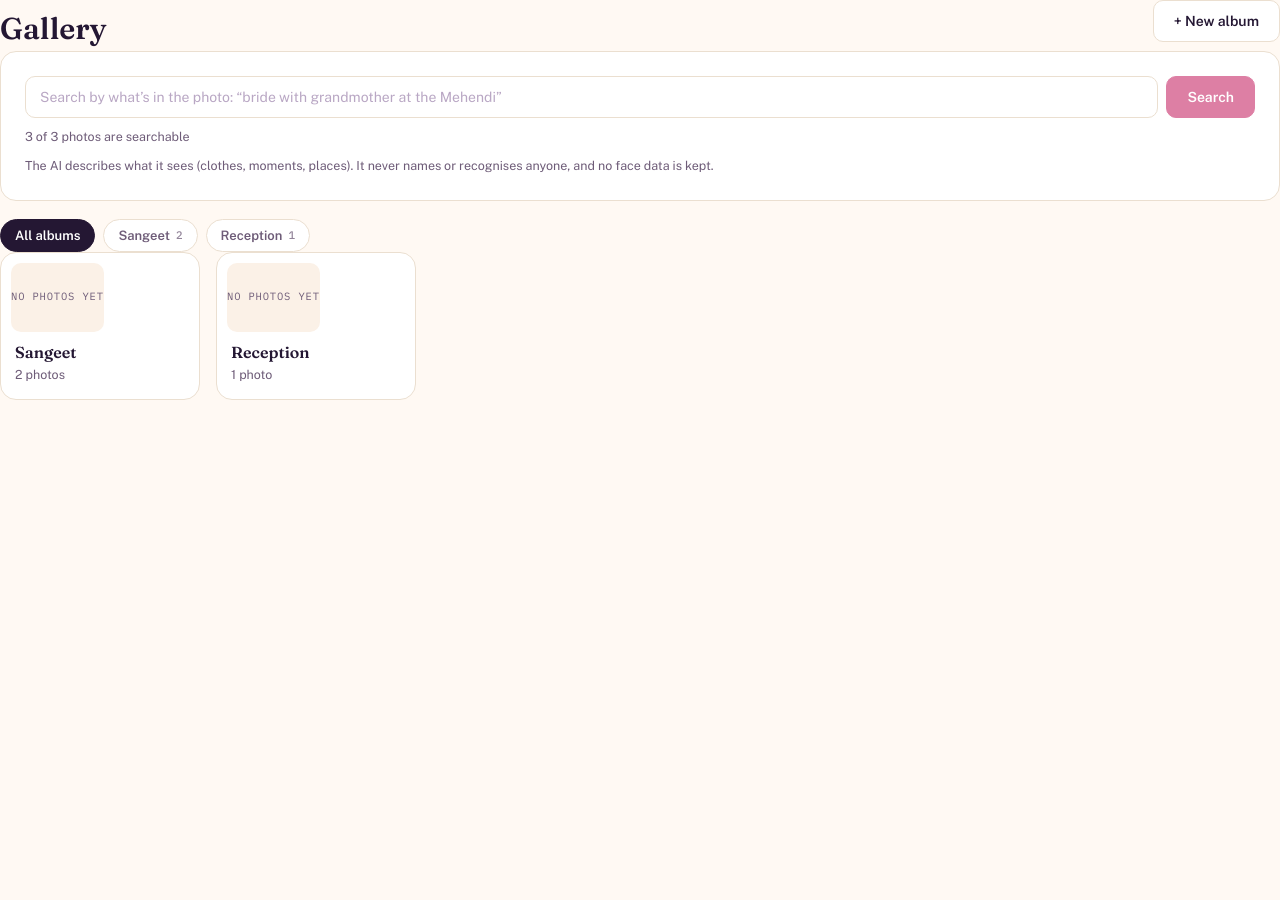
Test: Photo search › finds photos by what is in them and shows what the AI saw
Expected: the element named "Search photos" shows "3 of 3 photos are searchable", 0,51 -> 1279,200
Type "bride with grandmother at the sangeet" into the search field. click: (592, 97)
box: 25,76 -> 1158,118
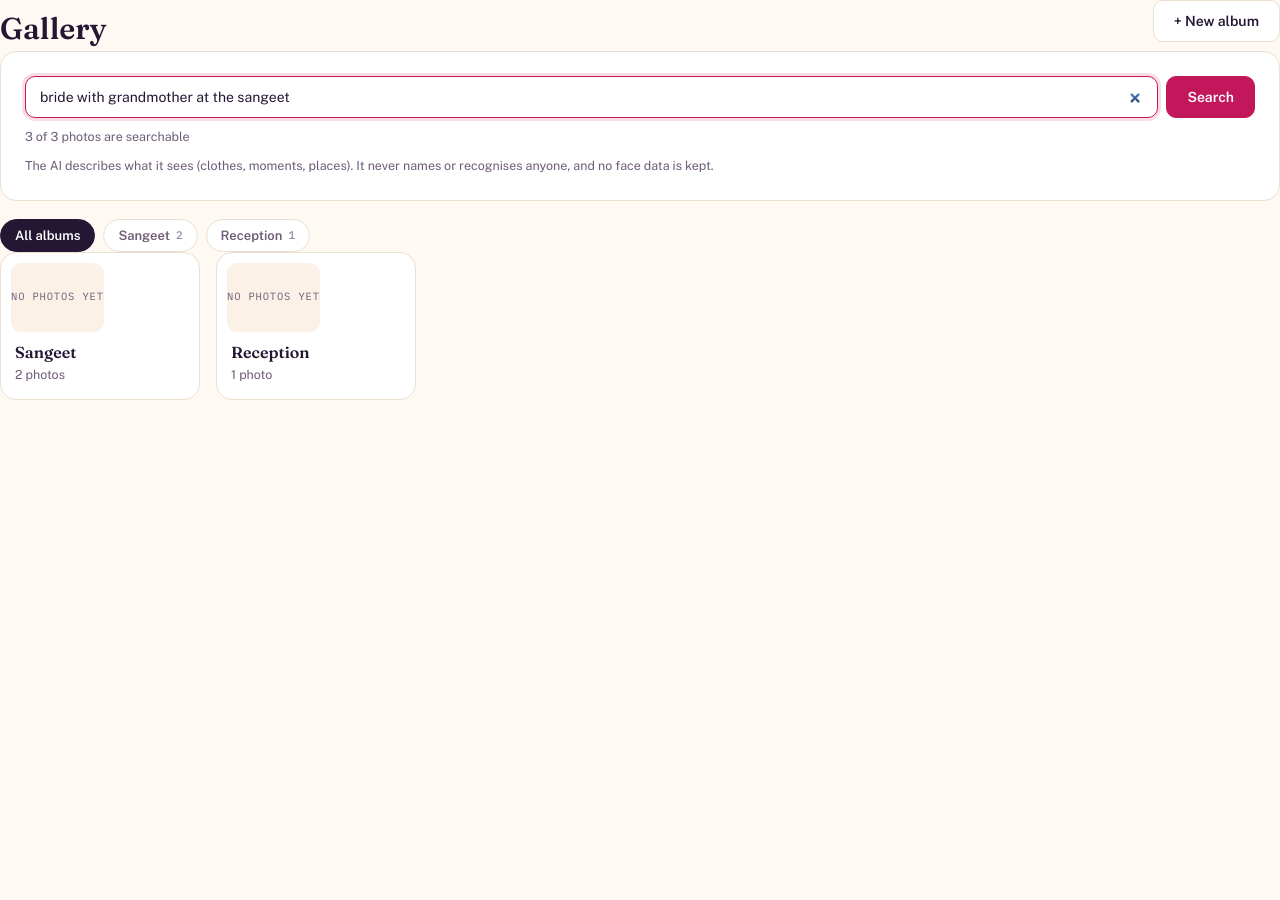
Click the button "Search". click: click(1211, 97)
box: 1166,76 -> 1255,118
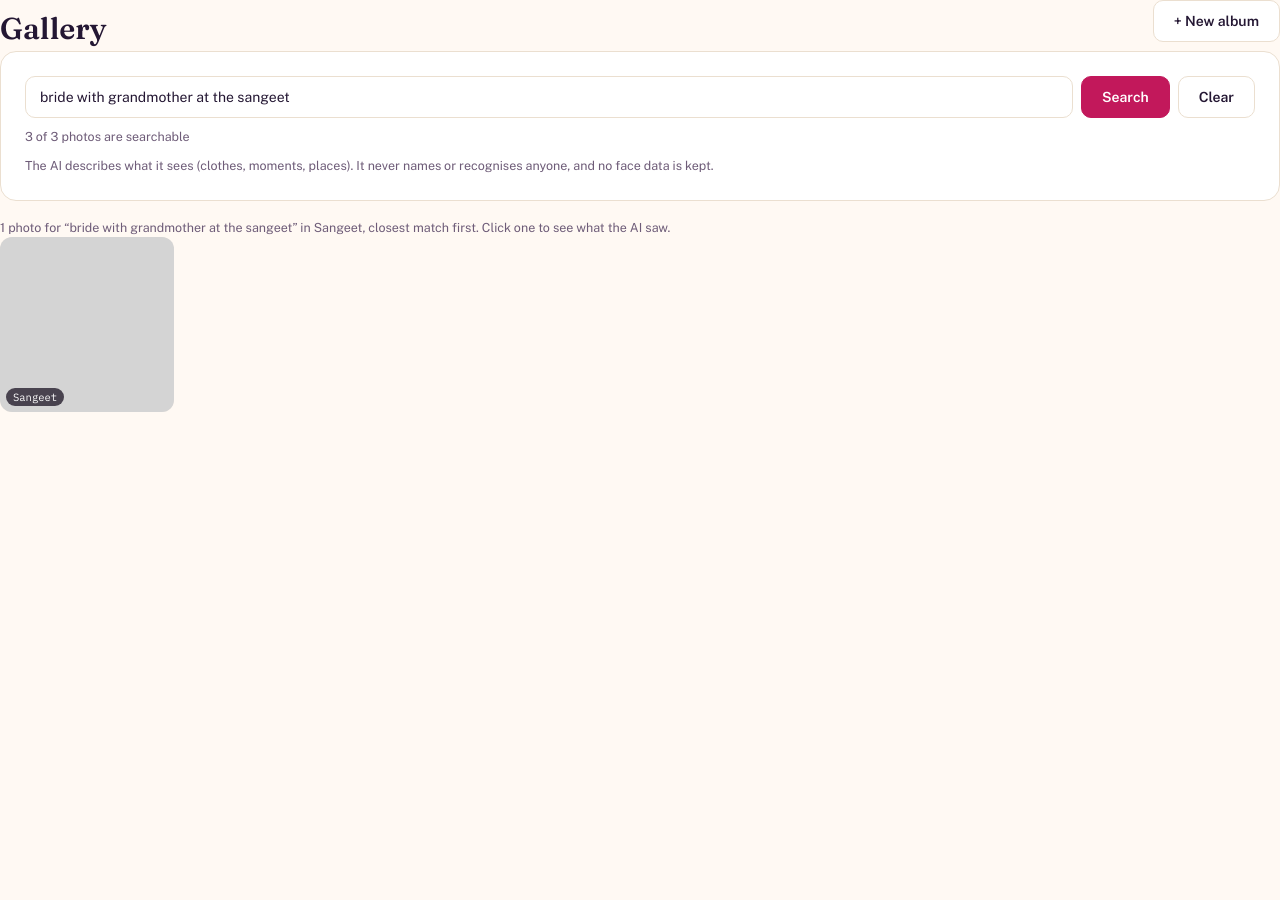
Expected: the text "1 photo for “bride with grandmother at the sangeet” in Sangeet, closest match first" is shown, 0,220 -> 670,234
Expected: the tab "All albums" is gone
Click the button named "Open photo 1: The bride in a red lehenga hugs an elderly woman.". click: click(87, 324)
box: 0,237 -> 174,412
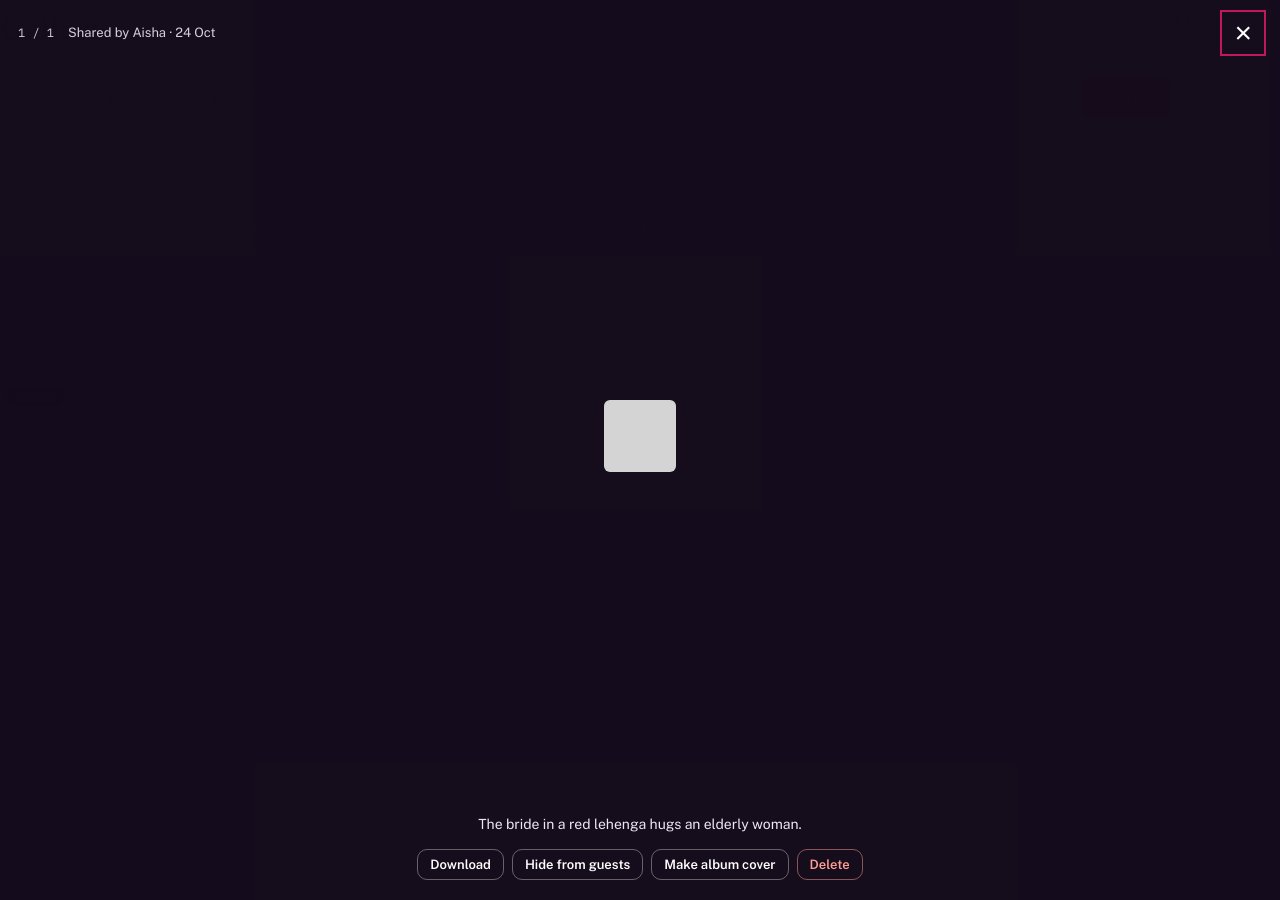
Expected: the dialog shows "The bride in a red lehenga hugs an elderly woman.", 478,816 -> 802,832
Click the button "Hide from guests". click: click(578, 864)
box: 512,849 -> 643,880
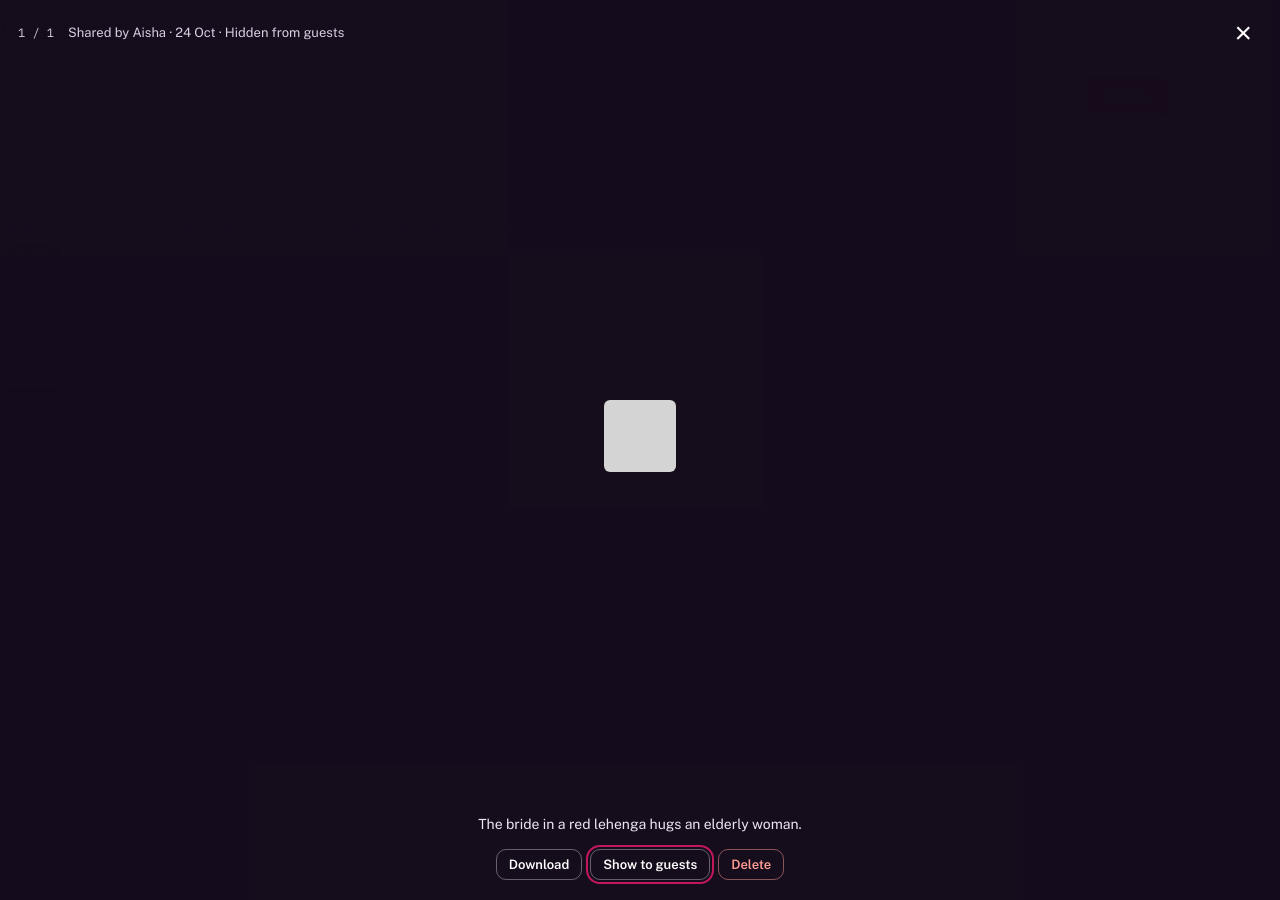
Expected: the button "Show to guests" is shown, 590,849 -> 710,880
Click the button named "Close". click: click(1243, 33)
box: 1224,14 -> 1262,52
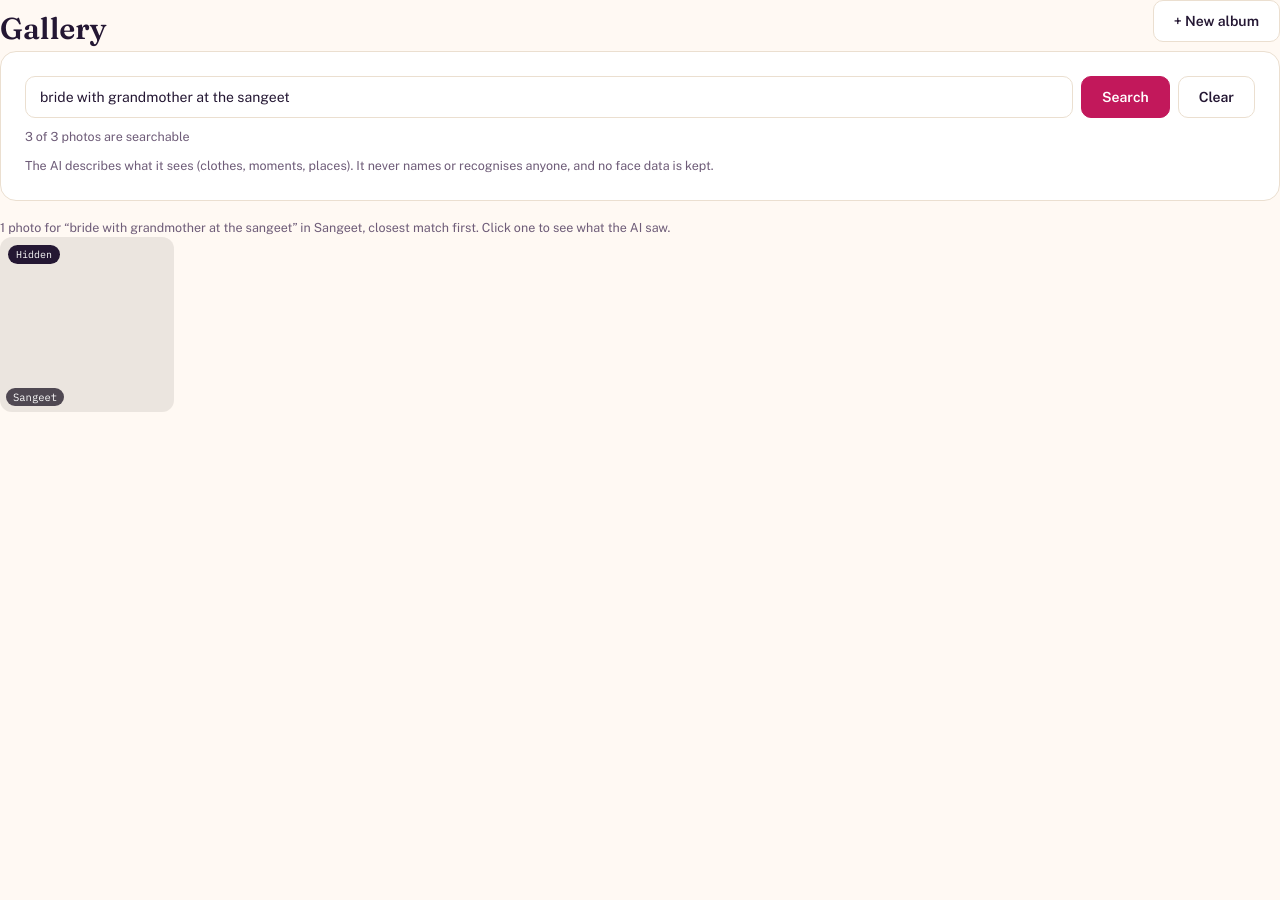
Click the button "Clear". click: click(1216, 97)
box: 1178,76 -> 1255,118
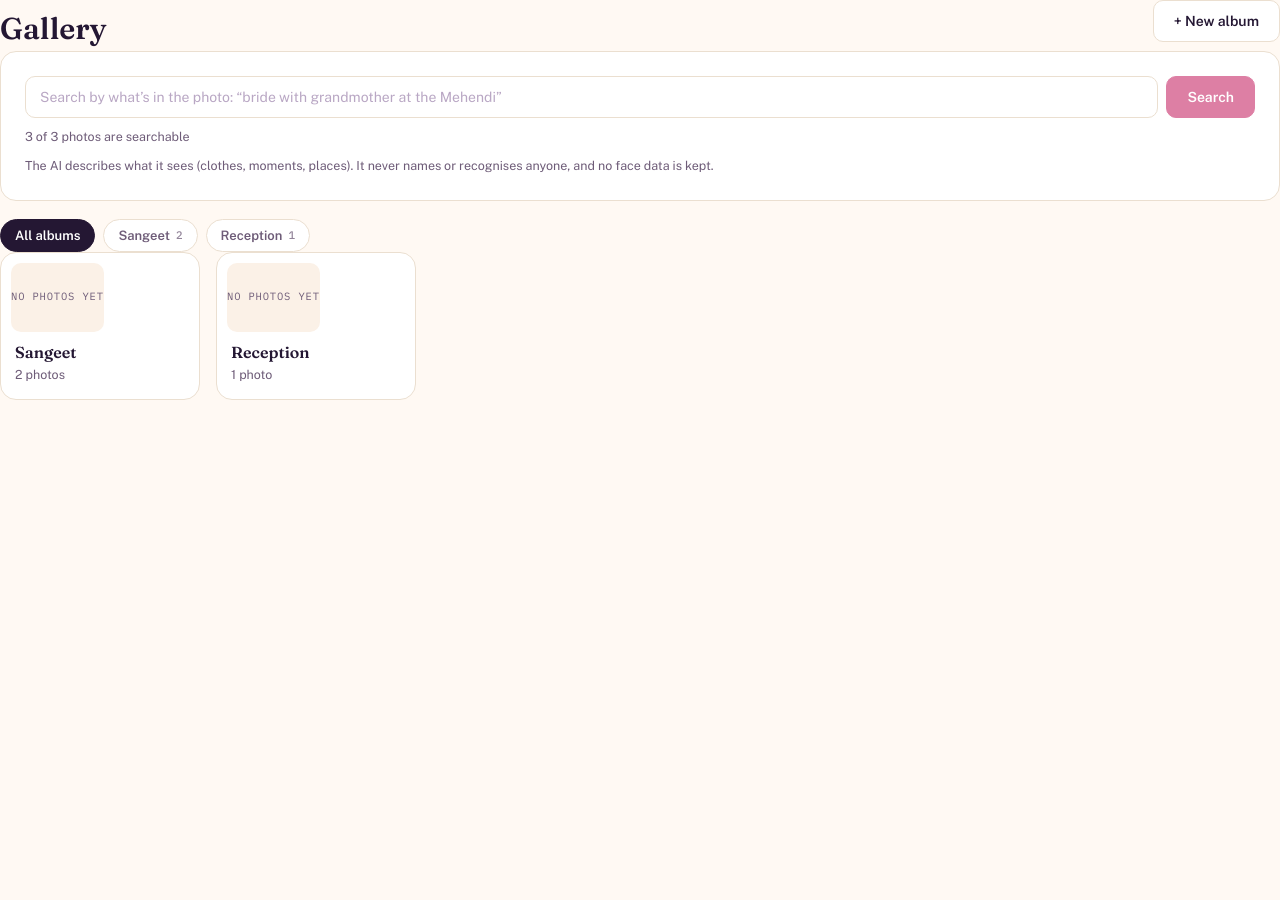
Expected: the tab "All albums" is shown, 0,218 -> 95,252
